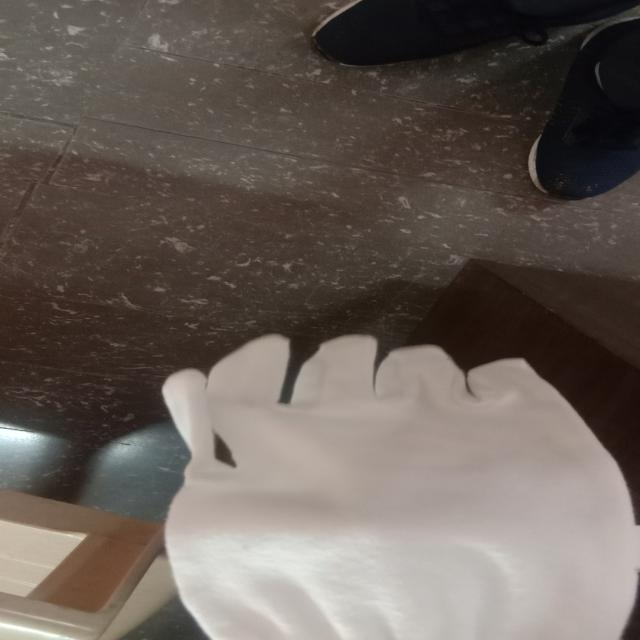gloved_hand: (150, 326, 638, 638)
